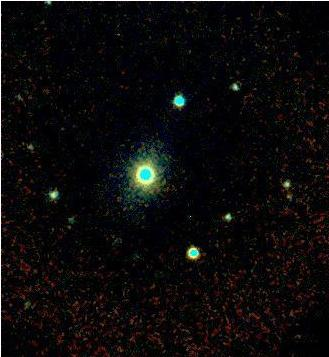star: (54, 212, 84, 242)
